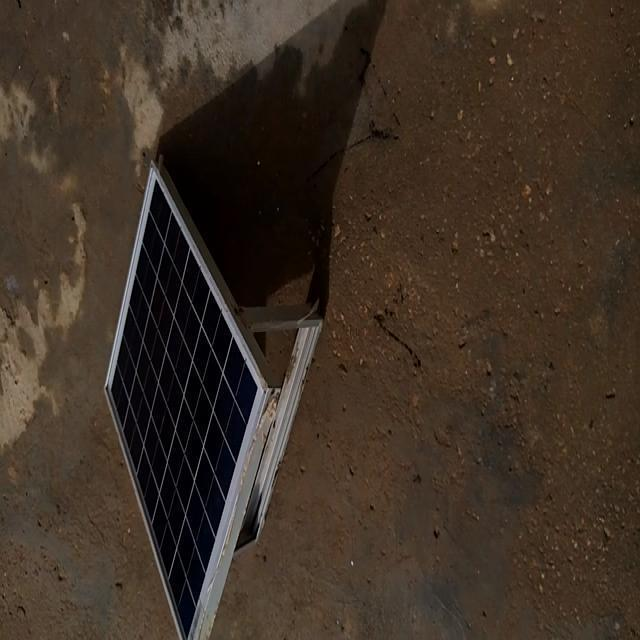Normal Solar Panel: (105, 163, 282, 640)
